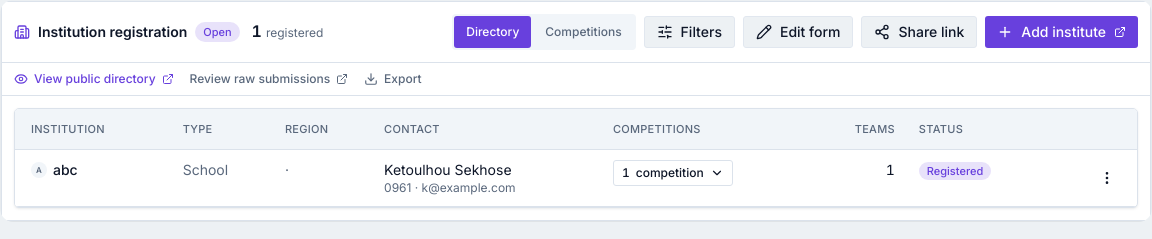
Scenario: InstitutionsTab › Competitions view reports counts per configured category, zeros included
Expected: the text "abc" is shown, [53, 160, 78, 180]
Click the button "Competitions".
click(583, 32)  # box [533, 16, 634, 48]
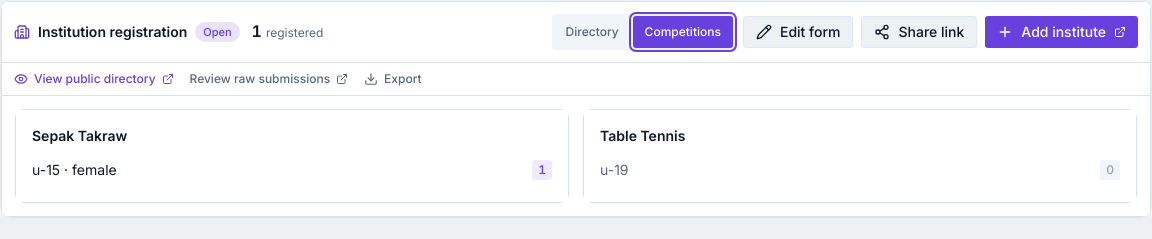
Expected: the text "1" in the row of "u-15 · female" is shown, [538, 162, 546, 177]
Expected: the text "Ketoulhou Sekhose" is gone
